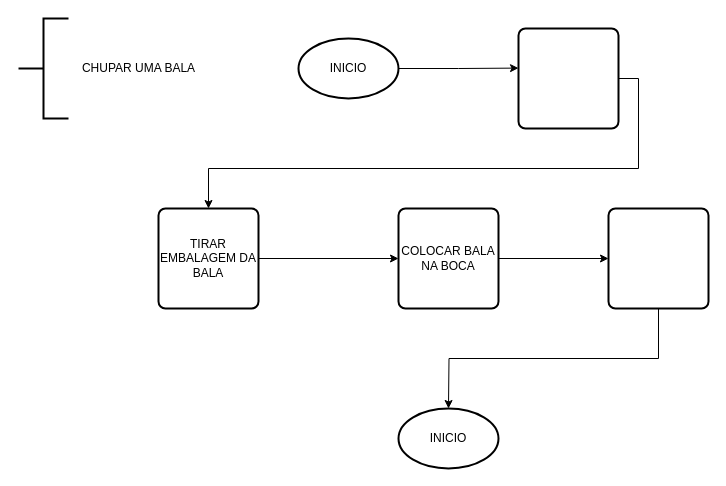
Image size: 726x486. Some labels were removed from this diagram. The centre of each missing label's shape, as x and y in pixels:
"JOGAR EMBALAGEM FORA" belongs at (x=658, y=258).
"PEGAR A BALA" belongs at (x=568, y=78).
